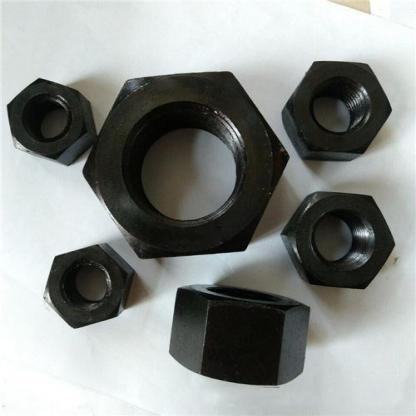FOD: (80, 67, 289, 262), (163, 281, 315, 387), (279, 188, 399, 290), (280, 60, 396, 162), (40, 240, 134, 333), (4, 78, 98, 167)
